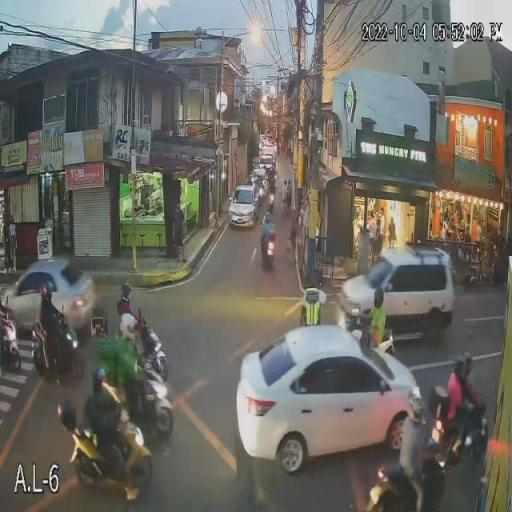helmet: (407, 386, 427, 426), (84, 310, 110, 338), (452, 352, 471, 380), (91, 366, 111, 390), (39, 284, 58, 303), (120, 314, 138, 334), (120, 283, 134, 300), (373, 287, 384, 305), (263, 214, 272, 222)
motorcycle: (58, 401, 154, 501), (371, 437, 452, 512), (112, 354, 174, 442), (425, 392, 489, 471), (30, 310, 84, 385), (145, 310, 169, 382), (0, 300, 22, 374), (355, 318, 395, 358), (261, 230, 277, 272)
rider: (398, 385, 442, 486), (80, 367, 129, 447), (445, 353, 486, 433), (116, 314, 146, 406), (37, 284, 70, 359), (88, 307, 119, 370), (116, 284, 149, 339), (366, 288, 388, 346), (261, 214, 276, 248)
